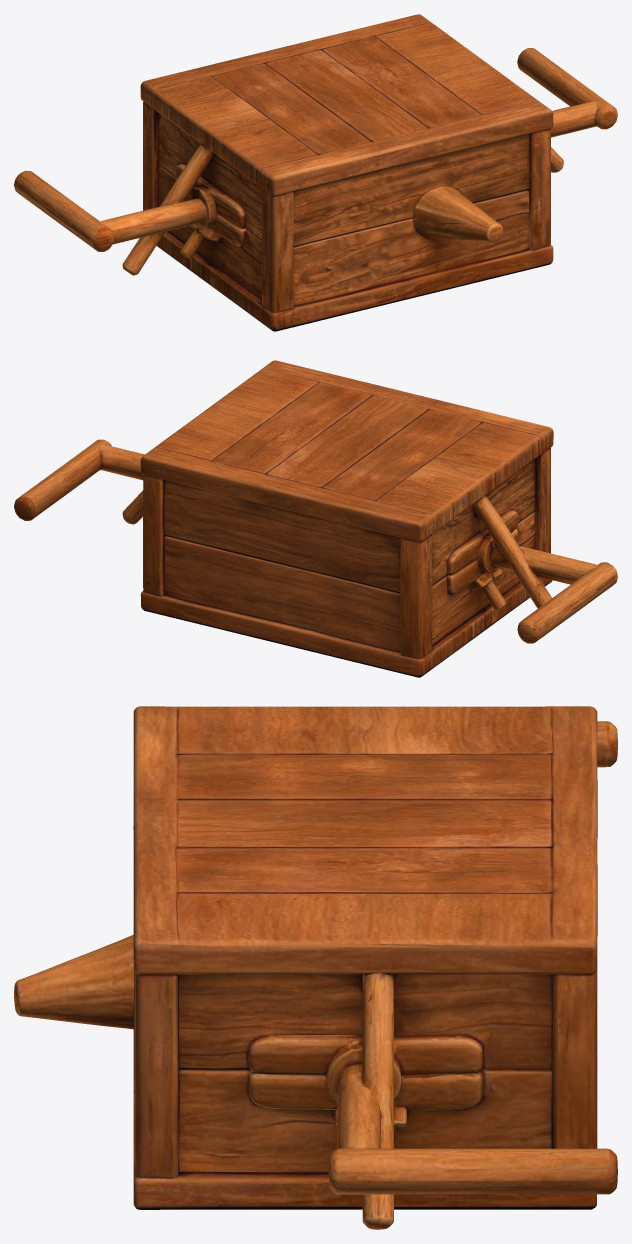
File: bellows.glb
3 views of the same model, one above another, from view 1: azimuth 30°, elevation 25°; view 2: azimuth 150°, elevation 25°; view 3: azimuth 270°, elevation 25° (orthographic). The views are drawn at different scales.
Parts seen in each view (by area): view 1: tg_bellows; view 2: tg_bellows; view 3: tg_bellows.
Part boxes in pixels (x1,y1,x2,y2): tg_bellows: [14, 14, 617, 331]; tg_bellows: [14, 360, 617, 677]; tg_bellows: [14, 706, 617, 1229].
Size of the model in its own units: 1 by 0.2827 by 0.5719.
Materials: 1 (1 with a texture image).
